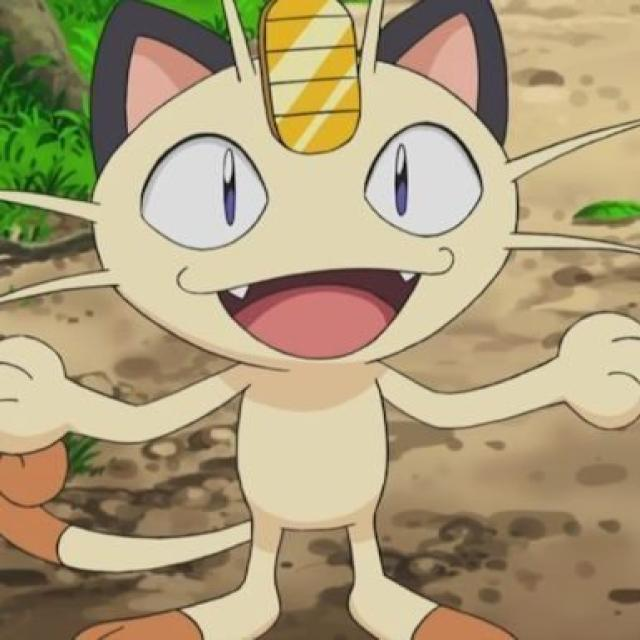Meowth: (94, 0, 521, 640)
